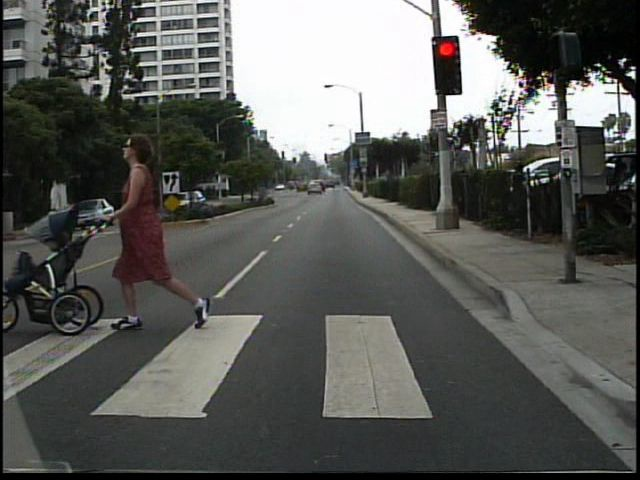person: (103, 129, 212, 330)
